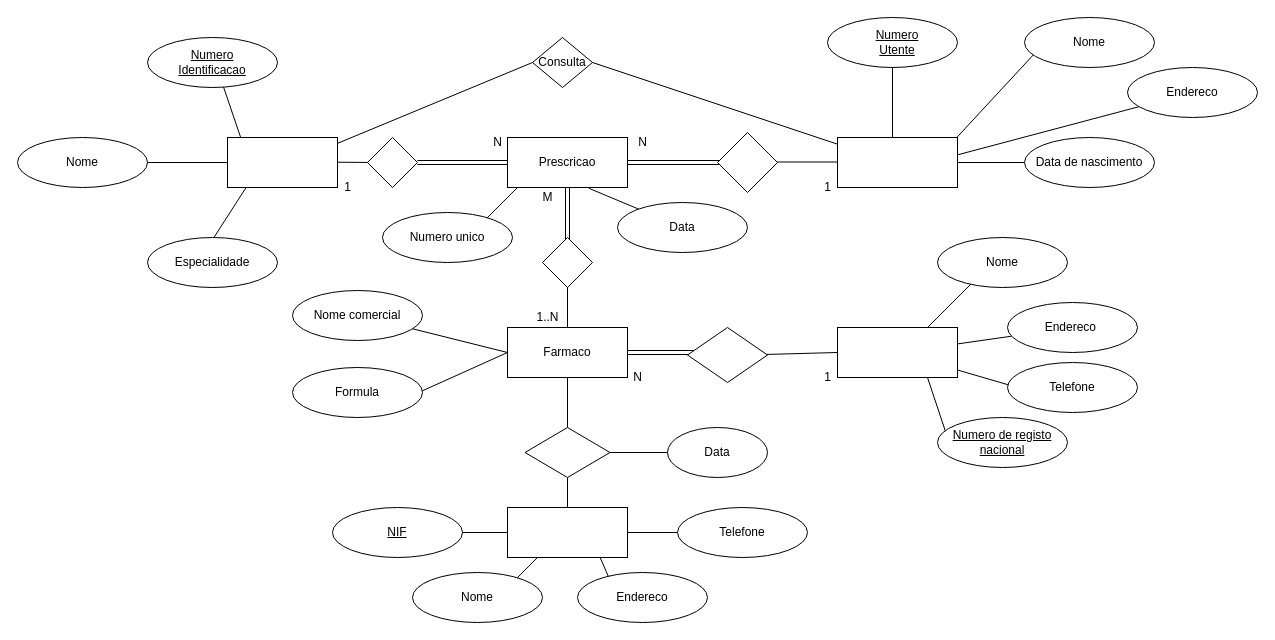
Some shapes in this 1275 by 640 pixel diagram are drawn without their labels. The box of each missing label's shape, as (x1, y1, x2, y2) in pixels:
Farmaceutico: (836, 326, 958, 378)
Farmacia: (506, 506, 628, 558)
Faz: (366, 136, 418, 188)
Medico: (226, 136, 338, 188)
Paciente: (836, 136, 958, 188)
Pede: (716, 132, 778, 192)
Produzido: (686, 326, 768, 382)
Tem: (542, 236, 592, 288)
Vendido: (524, 426, 610, 478)
